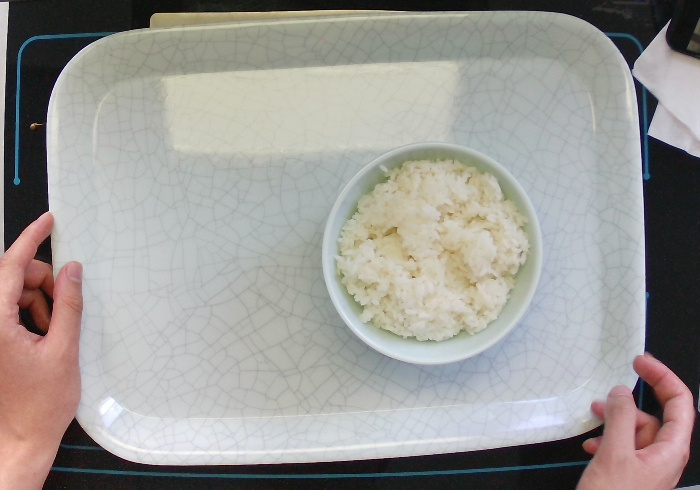JYsf-Fan_Wan: (320, 139, 545, 366)
